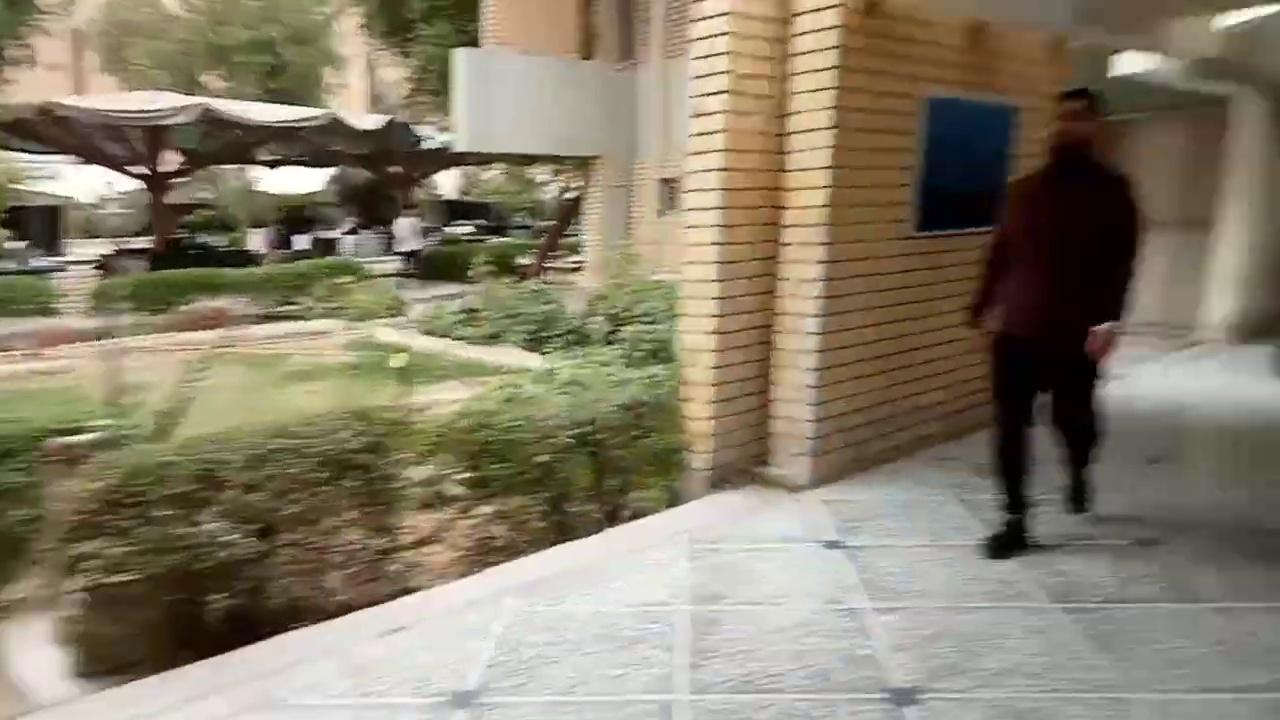person: (967, 86, 1142, 557)
tree: (29, 338, 683, 633), (5, 0, 477, 121), (76, 0, 344, 105), (416, 268, 694, 356), (84, 256, 371, 328)
